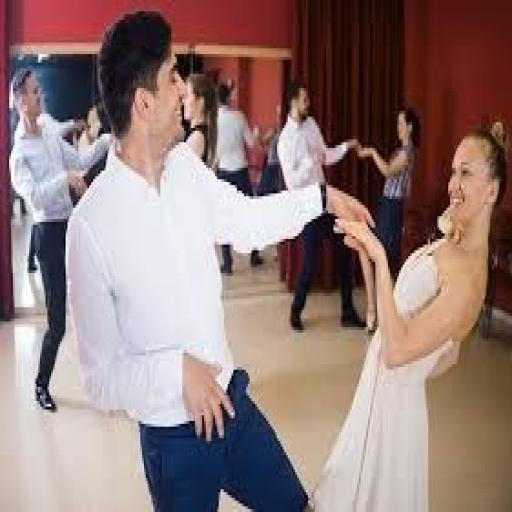dancing: (64, 9, 377, 509), (308, 117, 510, 509)
